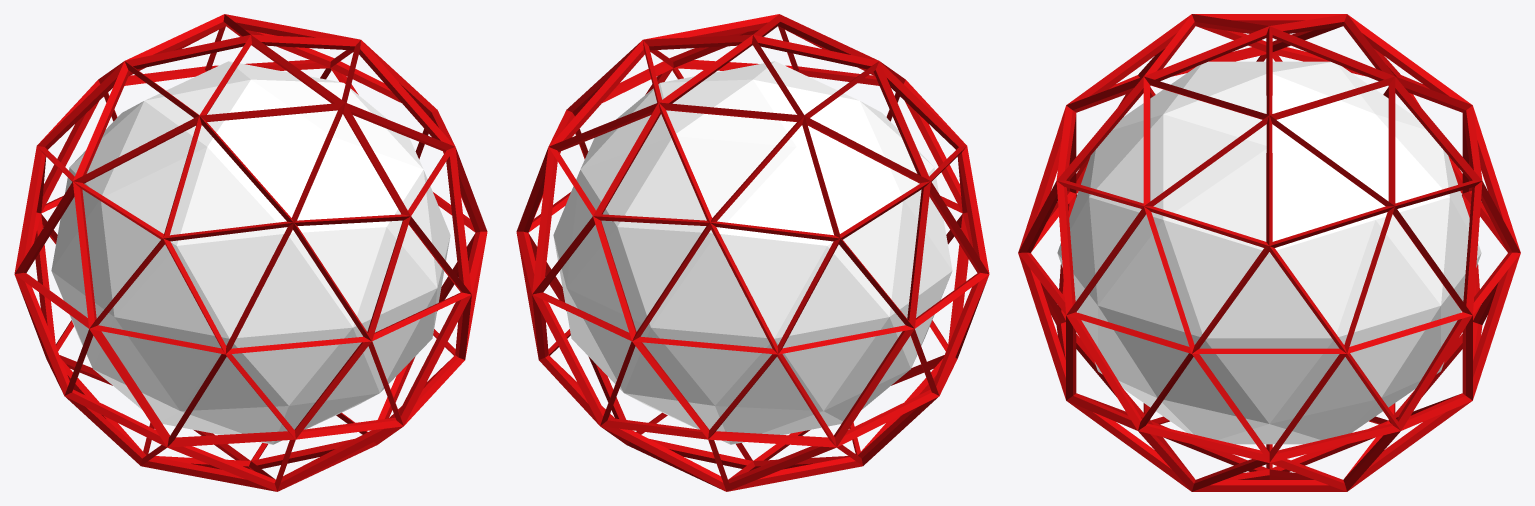
The model's file is globe.glb.
The picture shows the model from 3 angles, left to right: view 1: azimuth 30°, elevation 25°; view 2: azimuth 150°, elevation 25°; view 3: azimuth 270°, elevation 25°; orthographic projection. The views are drawn at different scales.
Visible parts, largest first — view 1: ball, frame; view 2: ball, frame; view 3: ball, frame.
Part boxes in pixels (box(x1,y1,x2,y2)): ball: box(51, 61, 450, 444); frame: box(14, 14, 487, 491); ball: box(553, 61, 952, 444); frame: box(516, 14, 989, 491); ball: box(1057, 61, 1481, 444); frame: box(1018, 14, 1520, 491).
Size of the model in its own units: 1.8 by 1.89 by 1.9.
